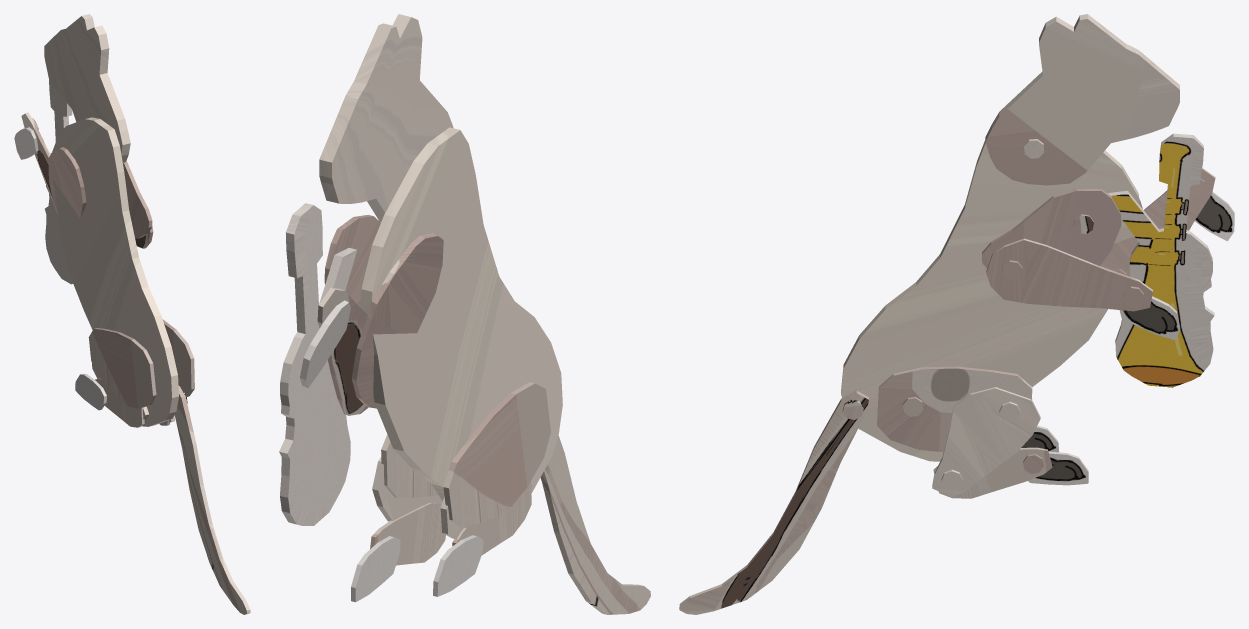
Rendered from CatPlaying music.fbx.
3 renders of one model, left to right at view 1: azimuth 30°, elevation 25°; view 2: azimuth 150°, elevation 25°; view 3: azimuth 270°, elevation 25°, orthographic. The views are drawn at different scales.
Parts seen in each view (by area): view 1: Body, Head, B1.001, Plane.002, Plane, F1.001, B1, F1, B3.001, F2.001, PAW b.001, Paw F.001; view 2: Body, Head, Plane, B1.001, F1.001, Plane.002, F2.001, B3, F1, PAW b, Paw F.001, PAW b.001 (+3 smaller); view 3: Body, Head, Plane, Plane.002, F2, B1, B2, F1, B3, F2.001, Paw F, PAW b (+1 smaller).
Part boxes in pixels (bbox=[...]): Body: bbox=[52, 117, 178, 426]; Head: bbox=[44, 14, 130, 163]; B1.001: bbox=[88, 328, 156, 408]; Plane.002: bbox=[174, 386, 250, 614]; Plane: bbox=[45, 79, 73, 284]; F1.001: bbox=[48, 147, 86, 218]; B1: bbox=[162, 319, 194, 396]; F1: bbox=[123, 161, 152, 238]; B3.001: bbox=[95, 378, 144, 427]; F2.001: bbox=[21, 112, 57, 214]; PAW b.001: bbox=[75, 373, 106, 410]; Paw F.001: bbox=[14, 127, 38, 159]; Body: bbox=[360, 127, 562, 501]; Head: bbox=[319, 14, 453, 222]; Plane: bbox=[279, 203, 356, 525]; B1.001: bbox=[443, 382, 550, 528]; F1.001: bbox=[351, 233, 443, 408]; Plane.002: bbox=[540, 436, 650, 614]; F2.001: bbox=[317, 287, 368, 415]; B3: bbox=[370, 502, 445, 565]; F1: bbox=[324, 215, 380, 306]; PAW b: bbox=[351, 536, 400, 602]; Paw F.001: bbox=[300, 300, 350, 387]; PAW b.001: bbox=[433, 535, 483, 596]; Body: bbox=[841, 140, 1139, 461]; Head: bbox=[985, 14, 1179, 185]; Plane: bbox=[1107, 133, 1214, 387]; Plane.002: bbox=[679, 390, 868, 614]; F2: bbox=[986, 238, 1152, 311]; B1: bbox=[877, 366, 1032, 451]; B2: bbox=[932, 387, 1040, 497]; F1: bbox=[982, 189, 1121, 268]; B3: bbox=[933, 447, 1052, 498]; F2.001: bbox=[1100, 168, 1215, 276]; Paw F: bbox=[1119, 296, 1180, 339]; PAW b: bbox=[1028, 451, 1088, 485].
Size of the model in its own units: 5.62 by 48.37 by 40.69.
